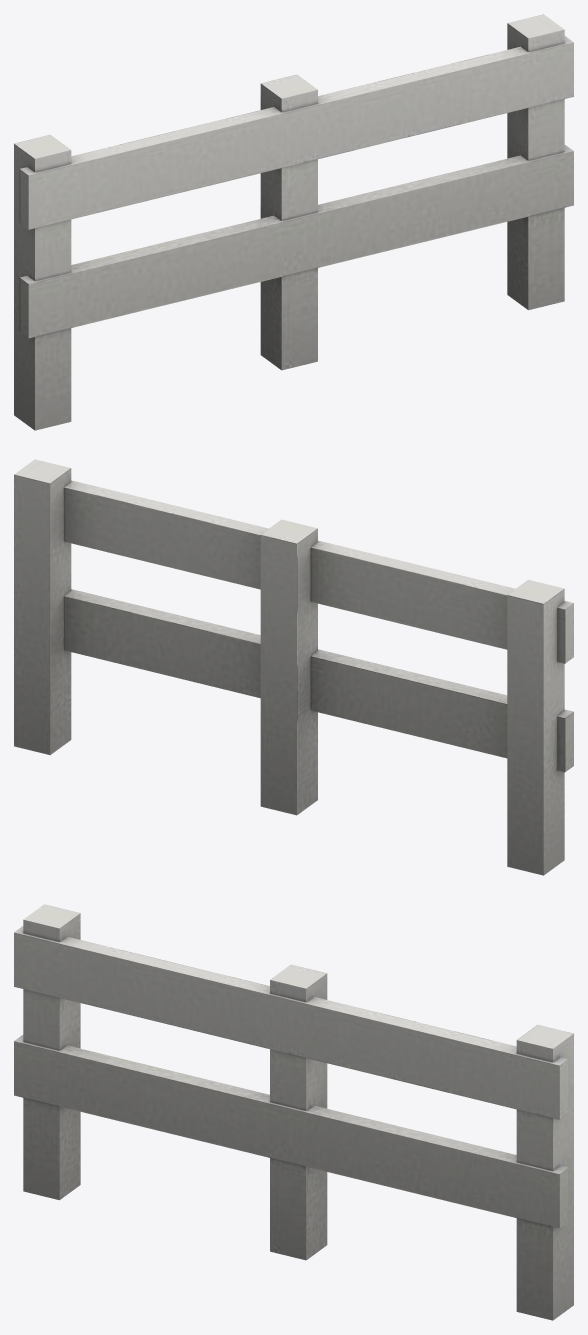
The model's file is valla_rodeo.glb.
3 renders of one model, top to bottom at view 1: azimuth 30°, elevation 25°; view 2: azimuth 150°, elevation 25°; view 3: azimuth 330°, elevation 25°, orthographic.
Parts seen in each view (by area): view 1: valla_rodeo; view 2: valla_rodeo; view 3: valla_rodeo.
Part boxes in pixels (x1,y1,x2,y2): valla_rodeo: (14,14,573,430); valla_rodeo: (14,459,573,875); valla_rodeo: (14,904,573,1320).
Bounding box in the file's own units: 2.1 × 1 × 0.15.
1 material, 1 textured.
